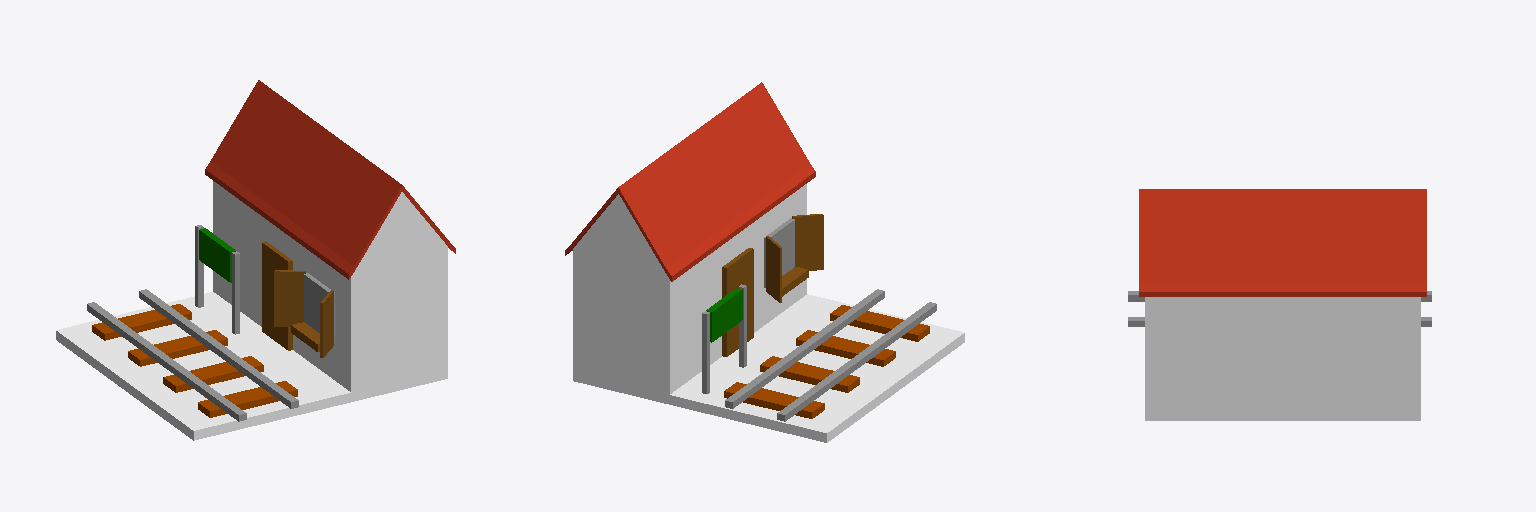
The model's file is station_01.obj.
3 views of the same model, side by side, from view 1: azimuth 30°, elevation 25°; view 2: azimuth 150°, elevation 25°; view 3: azimuth 270°, elevation 25° (orthographic).
Visible parts, largest first — view 1: Box01, Box06, Box02, Box08, Box14, Box05, Box10, Box07, Box04, Box03, Box12, Box13 (+2 smaller); view 2: Box01, Box06, Box02, Box08, Box13, Box03, Box10, Box07, Box04, Box05, Box12, Box14 (+2 smaller); view 3: Box01.
Part boxes in pixels (left/top/right/bottom): Box01: left=56, top=80, right=455, bottom=440; Box06: left=139, top=289, right=298, bottom=408; Box02: left=87, top=302, right=246, bottom=421; Box08: left=262, top=241, right=292, bottom=350; Box14: left=274, top=270, right=305, bottom=326; Box05: left=163, top=356, right=263, bottom=392; Box10: left=199, top=228, right=235, bottom=282; Box07: left=198, top=381, right=297, bottom=417; Box04: left=128, top=330, right=227, bottom=366; Box03: left=92, top=304, right=191, bottom=340; Box12: left=304, top=273, right=334, bottom=342; Box13: left=320, top=290, right=333, bottom=357; Box01: left=565, top=82, right=964, bottom=442; Box06: left=725, top=289, right=884, bottom=408; Box02: left=777, top=302, right=936, bottom=421; Box08: left=722, top=248, right=753, bottom=356; Box13: left=792, top=214, right=823, bottom=270; Box03: left=724, top=382, right=824, bottom=418; Box10: left=706, top=288, right=742, bottom=342; Box07: left=830, top=305, right=929, bottom=341; Box04: left=760, top=356, right=859, bottom=392; Box05: left=796, top=330, right=895, bottom=366; Box12: left=764, top=218, right=794, bottom=287; Box14: left=766, top=236, right=781, bottom=302; Box01: left=1139, top=189, right=1426, bottom=420.
Size of the model in its own units: 4.92 by 3.77 by 5.